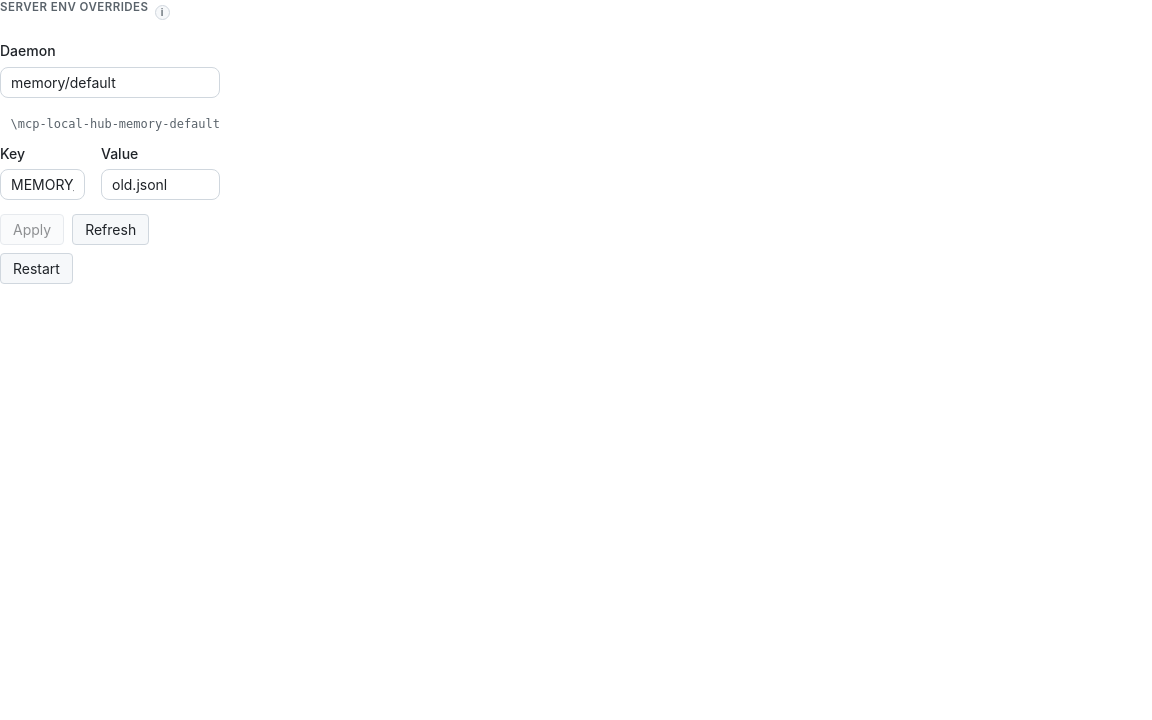
DaemonEnvSettings › gates a daemon switch with a ConfirmModal while the env edit is dirty (#268 r11 P2)
expect the dropdown with test id "daemon-env-task" shows "memory/default": met, box left=0, top=67, right=220, bottom=98
# Edit the value so the row is dirty.
Replace the text in the field with test id "daemon-env-value" with "draft.jsonl": {"x": 160, "y": 184} left=101, top=169, right=220, bottom=200
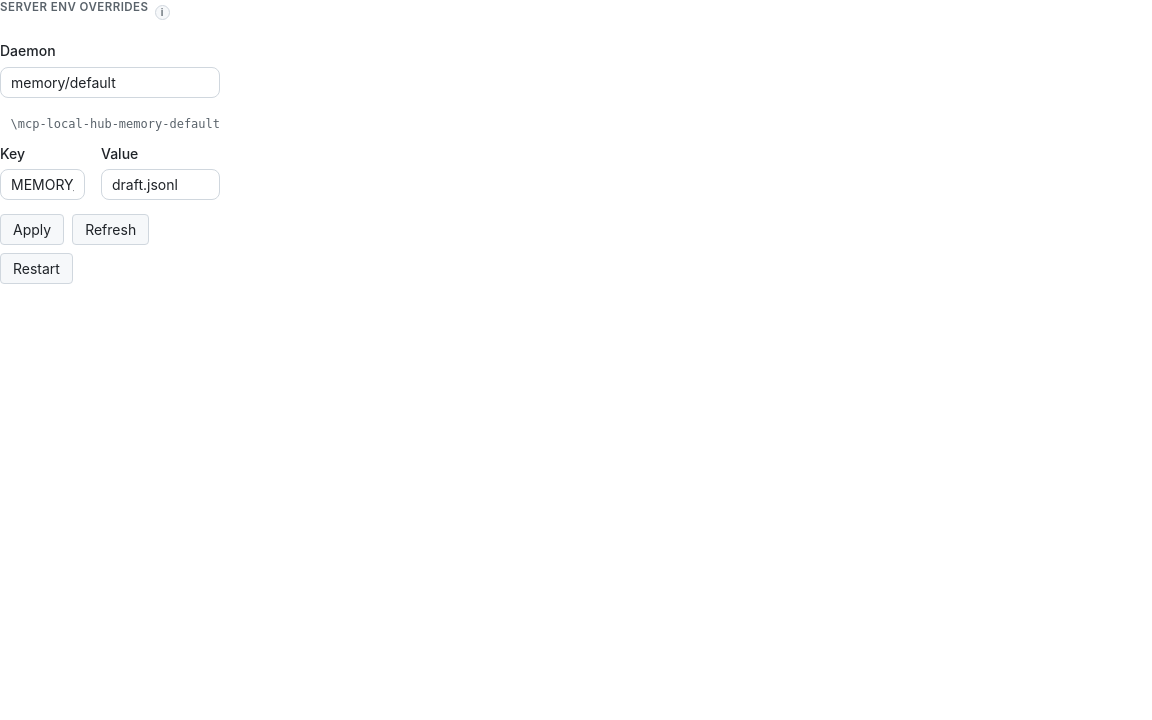
Select "time/default" in the dropdown with test id "daemon-env-task": {"x": 110, "y": 82} left=0, top=67, right=220, bottom=98
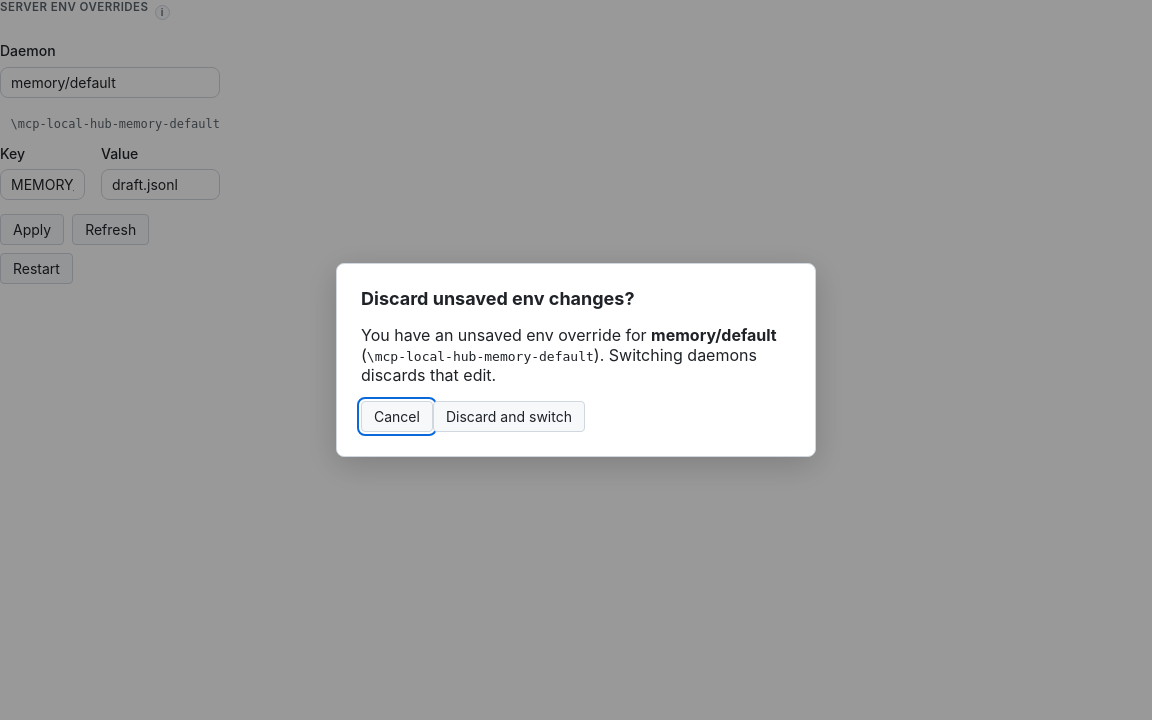
expect the dialog with test id "confirm-modal" is shown: met, box left=336, top=263, right=816, bottom=457
# Cancel keeps the current daemon + edit intact.
Click the button with test id "confirm-modal-cancel": {"x": 397, "y": 416} left=361, top=401, right=433, bottom=432
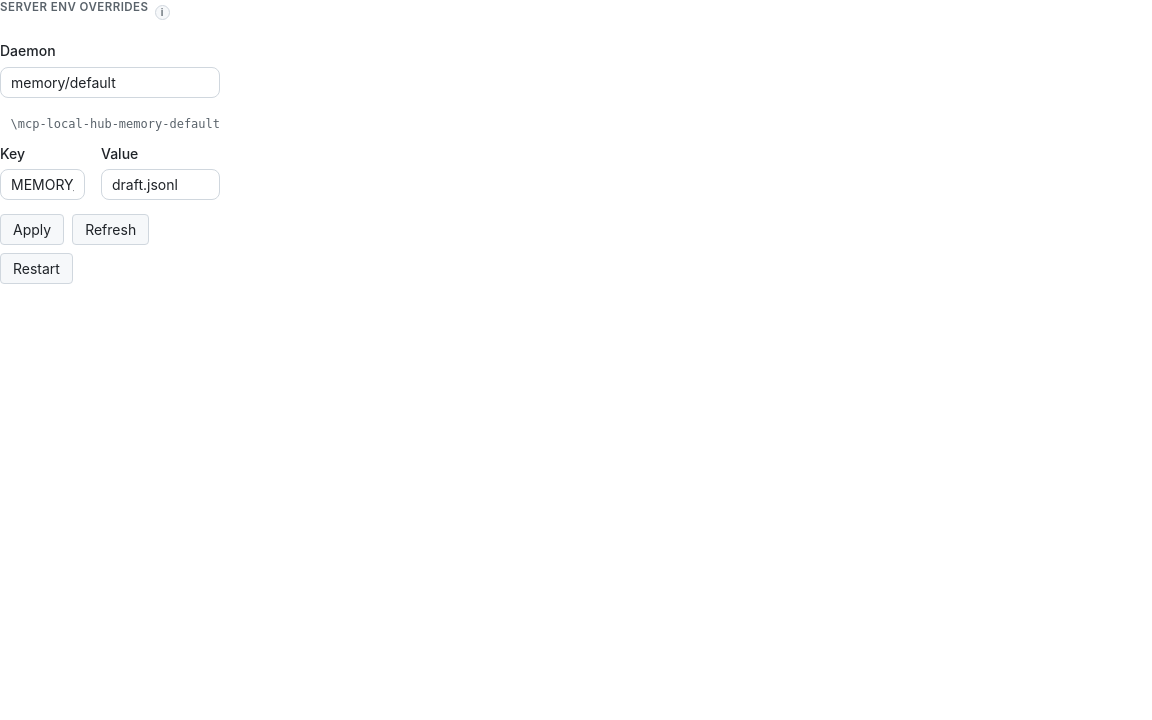
expect the dialog with test id "confirm-modal" is gone: met
Select "time/default" in the dropdown with test id "daemon-env-task": {"x": 110, "y": 82} left=0, top=67, right=220, bottom=98
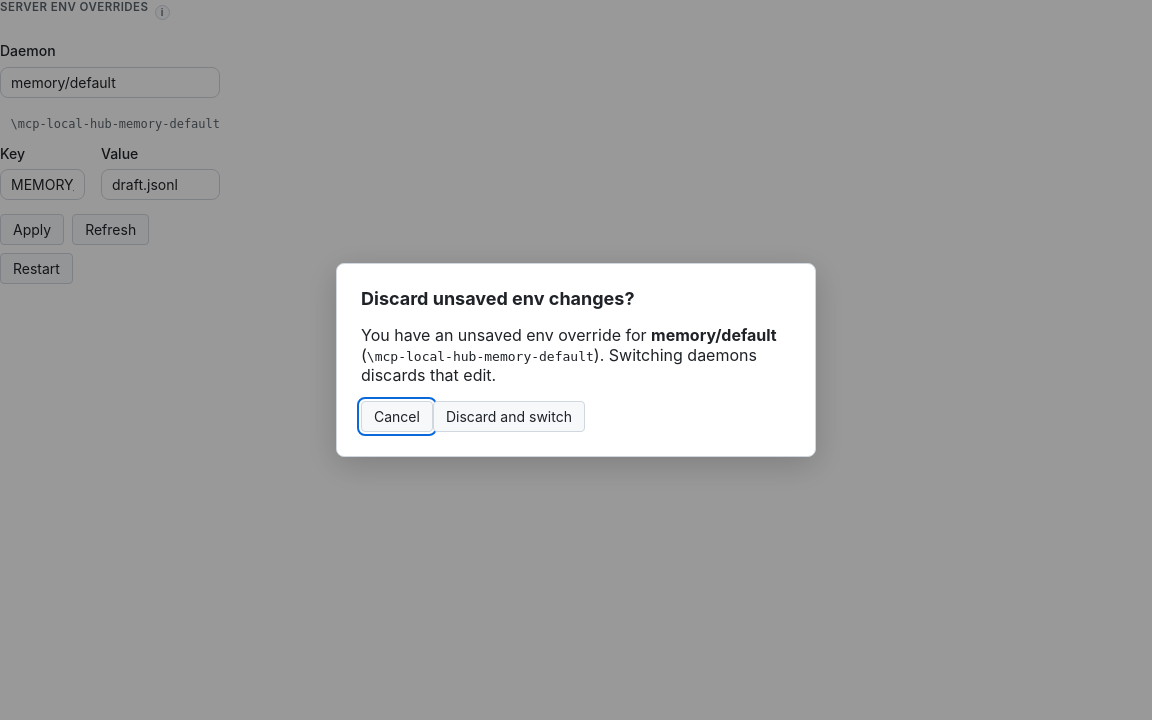
expect the dialog with test id "confirm-modal" is shown: met, box left=336, top=263, right=816, bottom=457
Click the button with test id "confirm-modal-confirm": {"x": 509, "y": 416} left=433, top=401, right=585, bottom=432
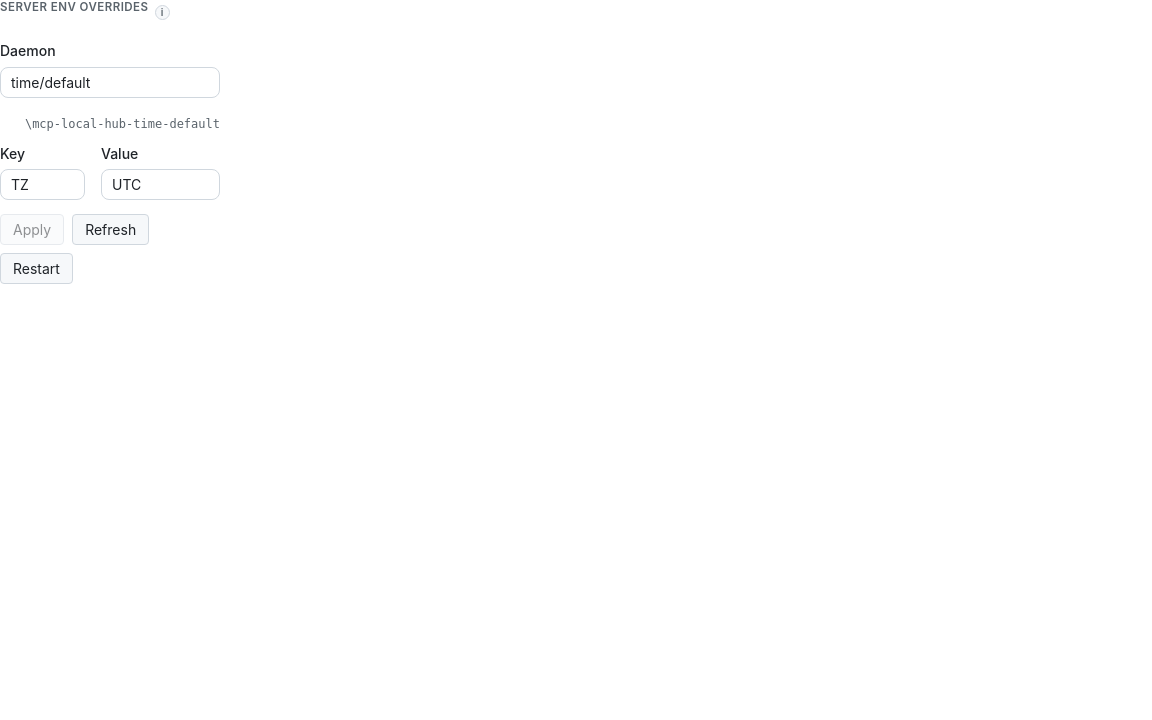
expect the field with test id "daemon-env-value" holds "UTC": met, box left=101, top=169, right=220, bottom=200
